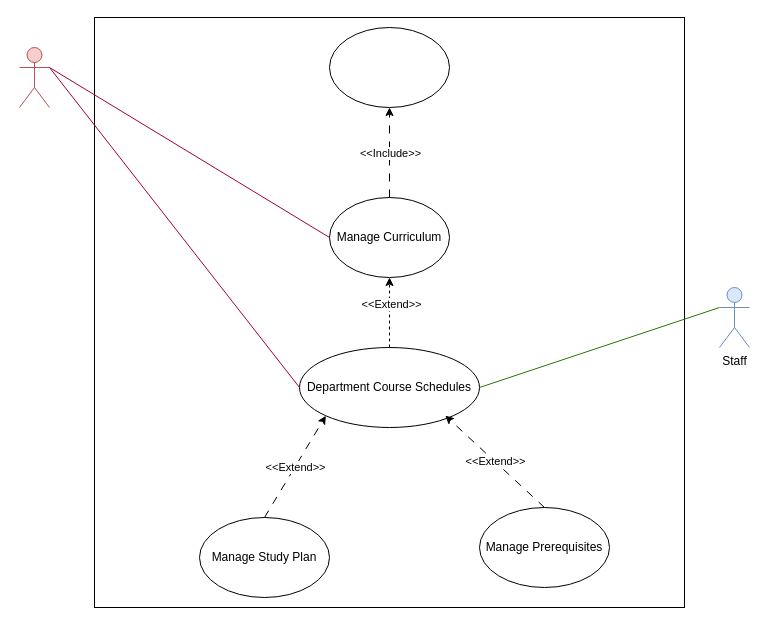
The diagram is 767 pixels wide and 625 high, and some of its shapes have lost their labels. Here are the shapes that lost their labels. From the top down, the centre of each, then its label:
the point at 34,77: Admin
the point at 389,67: Login
